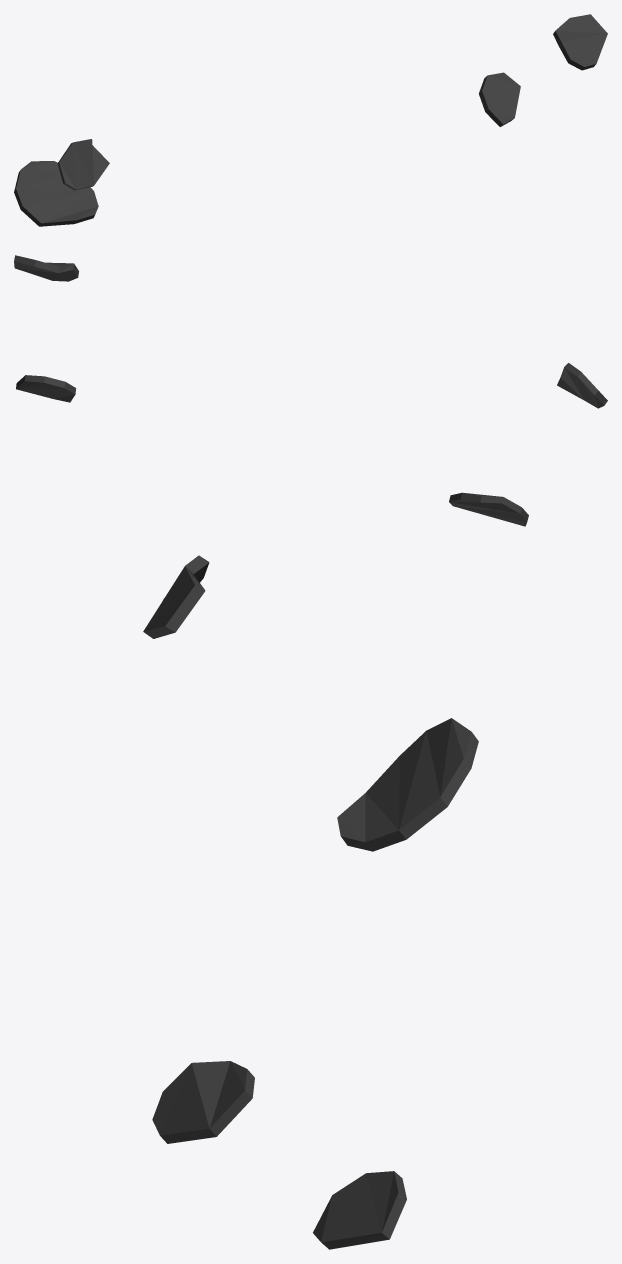
The model's file is c5_transverse_foramen.glb.
The picture shows the model from 3 angles, top to bottom: view 1: azimuth 30°, elevation 25°; view 2: azimuth 150°, elevation 25°; view 3: azimuth 270°, elevation 25°; orthographic projection. The views are drawn at different scales.
Visible parts, largest first — view 1: c5_transverse_foramen; view 2: c5_transverse_foramen; view 3: c5_transverse_foramen.
Part boxes in pixels (x1,y1,x2,y2): c5_transverse_foramen: (14,14,607,226); c5_transverse_foramen: (14,255,607,526); c5_transverse_foramen: (143,555,478,1249).
Size of the model in its own units: 21.52 by 4.5 by 5.65.
Materials: 1 (1 with a texture image).
